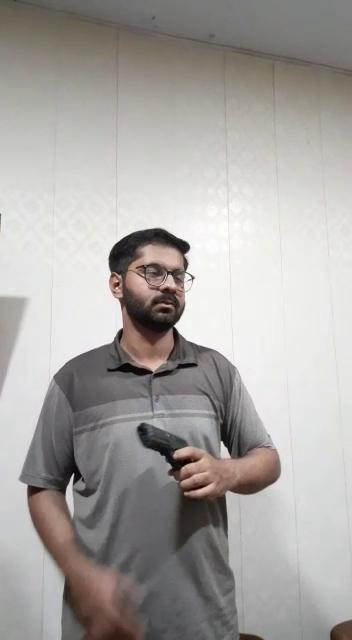criminal: (19, 222, 285, 640)
weapon: (135, 419, 203, 496)
